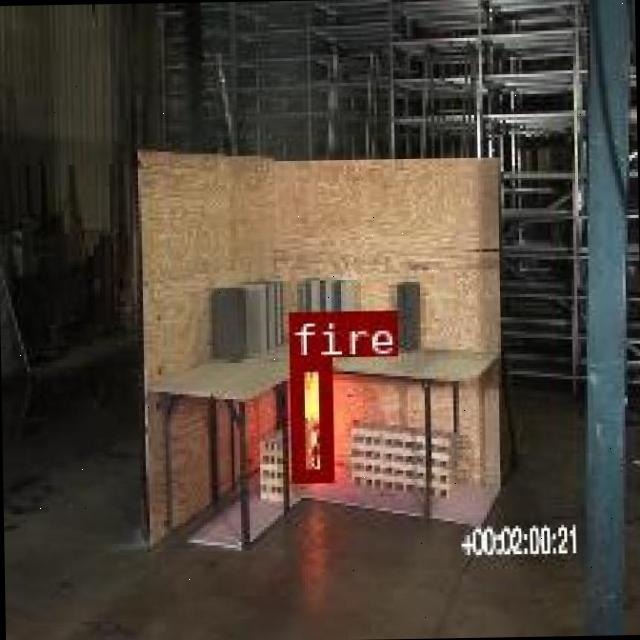fire: (288, 356, 330, 480)
